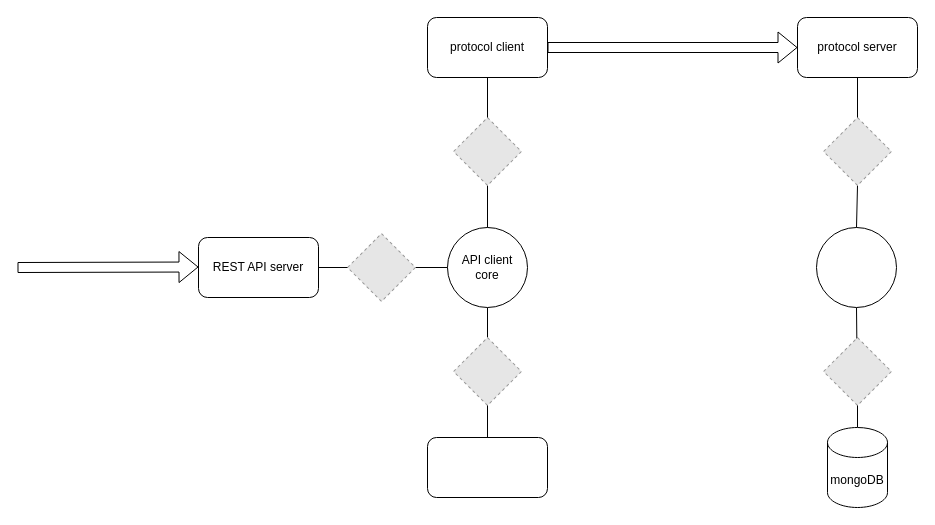
This 935x525 diagram has some shape labels left out. Grey dashed boxes stand in for pictures. Here are the shapes that lost their labels. From the top down, the centre of each, then its label:
the point at 856,267: Port Domain Service core
the point at 487,467: JSON parser
